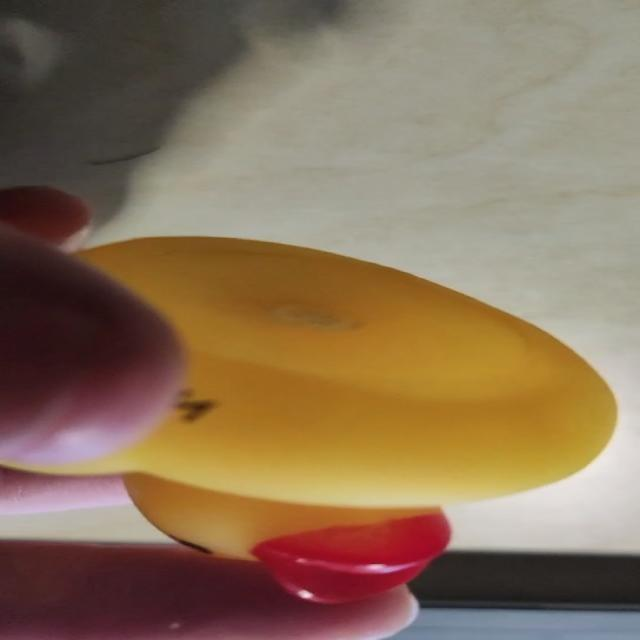rubber-duck: (0, 236, 615, 599)
